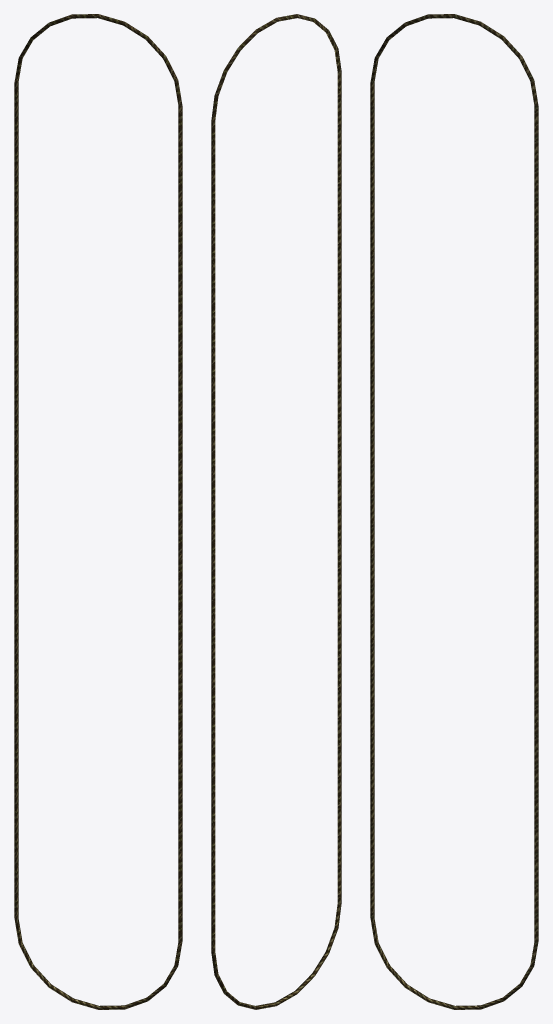
Rendered from SWORDLIGHT20_MAINCAVROPE01ELEV07.fbx.
3 renders of one model, left to right at view 1: azimuth 90°, elevation 25°; view 2: azimuth 150°, elevation 25°; view 3: azimuth 270°, elevation 25°, orthographic.
Visible parts, largest first — view 1: SWORDLIGHT20_MAINCAVROPE01ELEV07; view 2: SWORDLIGHT20_MAINCAVROPE01ELEV07; view 3: SWORDLIGHT20_MAINCAVROPE01ELEV07.
Boxes of the visible parts, x1,y1,x2,y2 form: SWORDLIGHT20_MAINCAVROPE01ELEV07: (14,14,182,1009); SWORDLIGHT20_MAINCAVROPE01ELEV07: (211,14,341,1009); SWORDLIGHT20_MAINCAVROPE01ELEV07: (370,14,538,1009).
Size of the model in its own units: 8601 by 166858 by 25517.
Materials: 1 (1 with a texture image).
